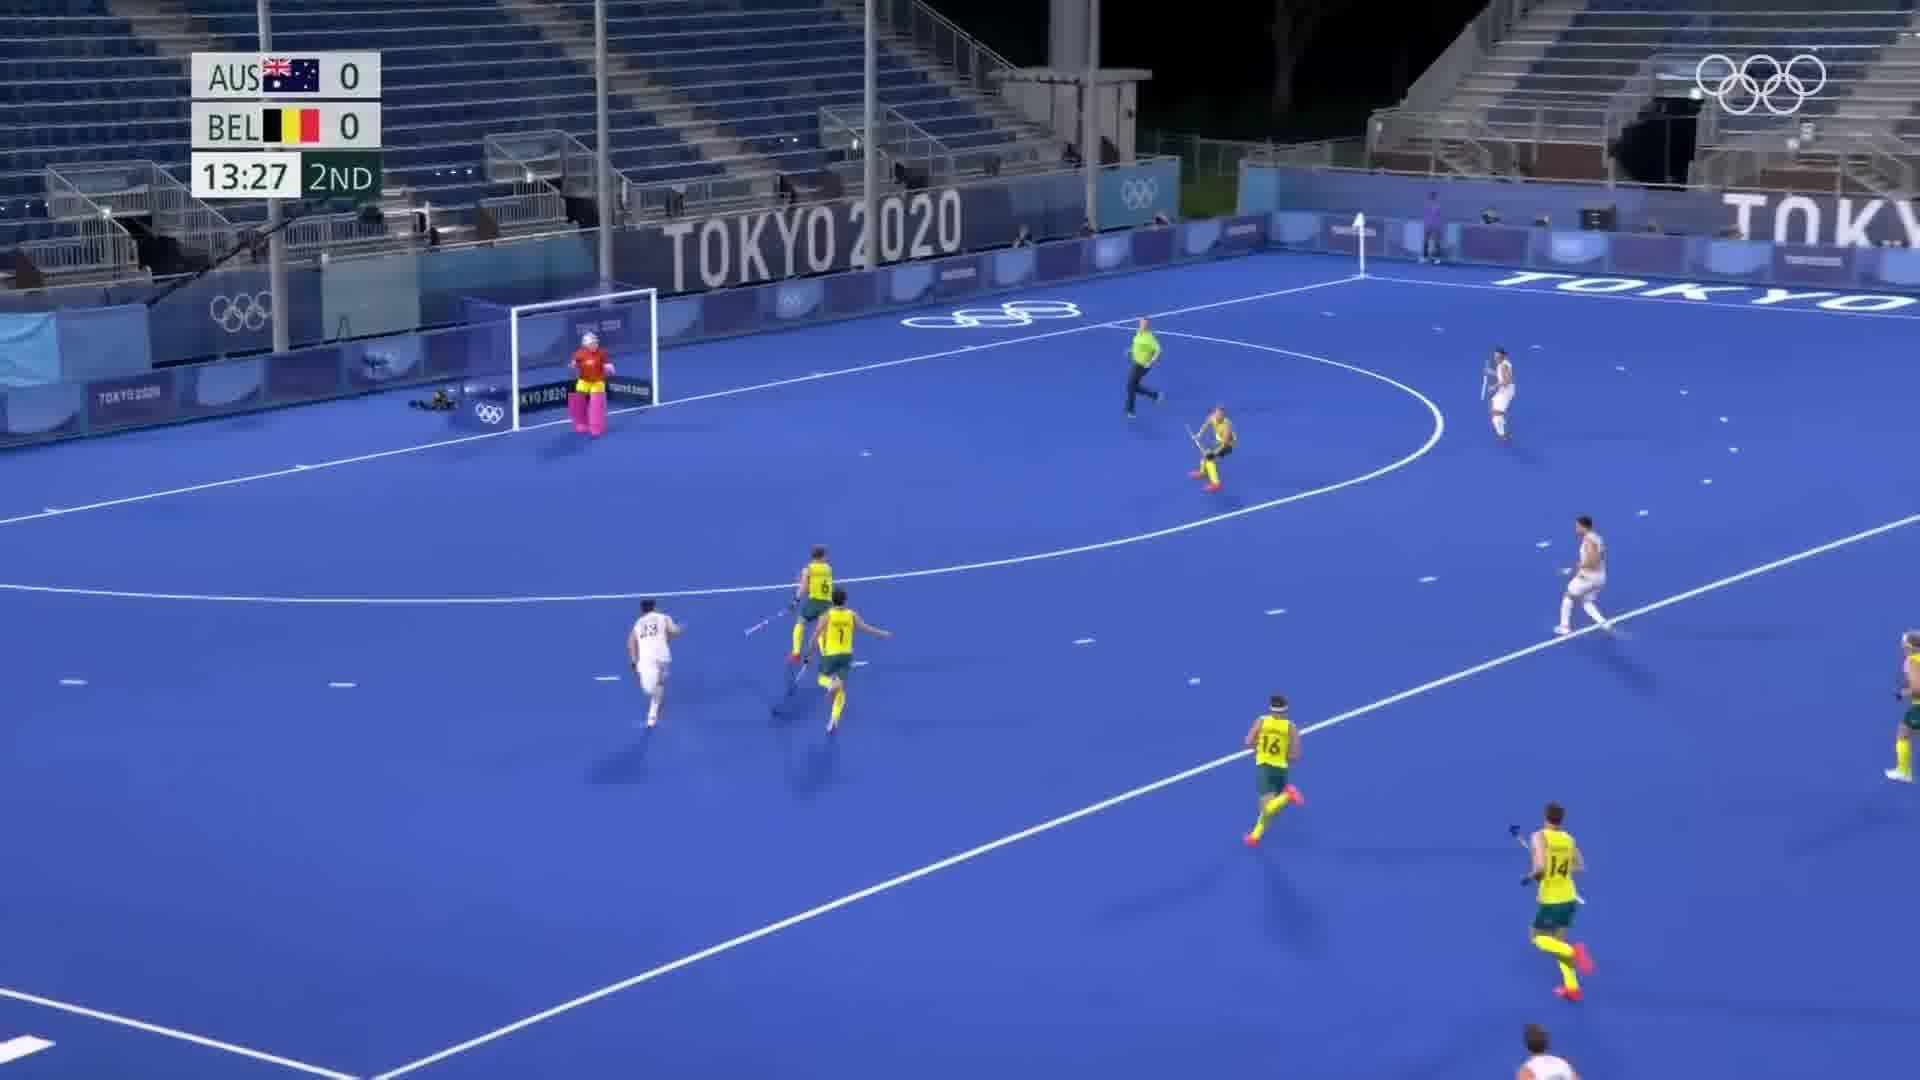ball: (1182, 669, 1204, 688)
